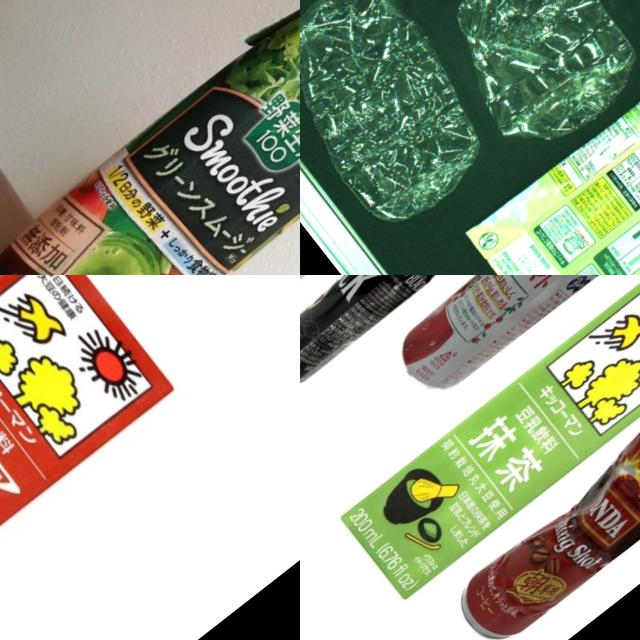Aluminium Foil: (329, 275, 640, 609), (0, 0, 300, 275), (0, 275, 189, 600), (475, 0, 640, 275)
Can: (443, 412, 640, 640), (381, 275, 640, 406), (300, 275, 446, 396)
Transparent Plastic Bottle: (300, 0, 515, 238), (392, 0, 640, 164)
